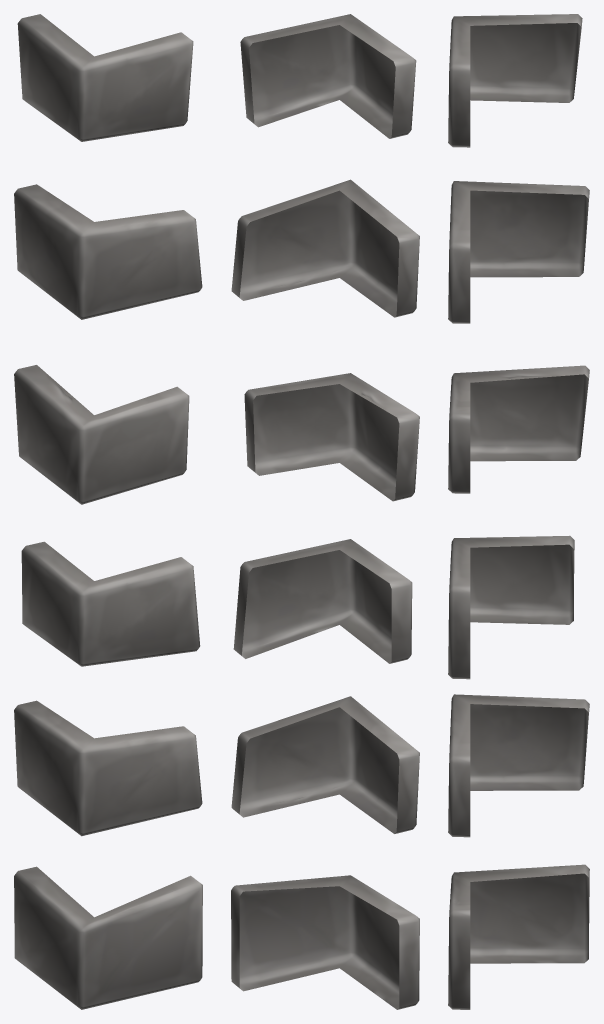
File: PropTrimFacade01_6.FBX
The picture shows the model from 3 angles, left to right: view 1: azimuth 30°, elevation 25°; view 2: azimuth 210°, elevation 25°; view 3: azimuth 270°, elevation 25°; orthographic projection.
Parts seen in each view (by area): view 1: PropTrimFacade01_6; view 2: PropTrimFacade01_6; view 3: PropTrimFacade01_6.
Boxes of the visible parts, x1,y1,x2,y2 form: PropTrimFacade01_6: [14, 14, 202, 1009]; PropTrimFacade01_6: [231, 14, 419, 1009]; PropTrimFacade01_6: [448, 14, 589, 1009].
Size of what is drawn, in the model's own units: 0.4817 by 3.51 by 0.4796.
